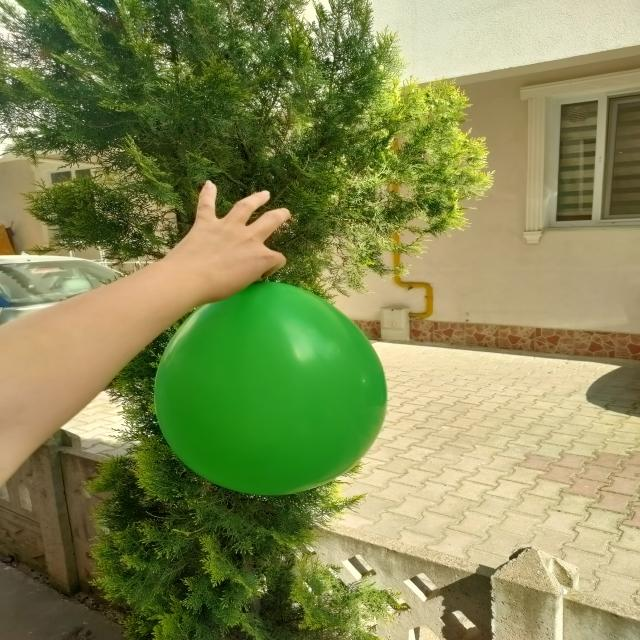green: (157, 282, 386, 497)
